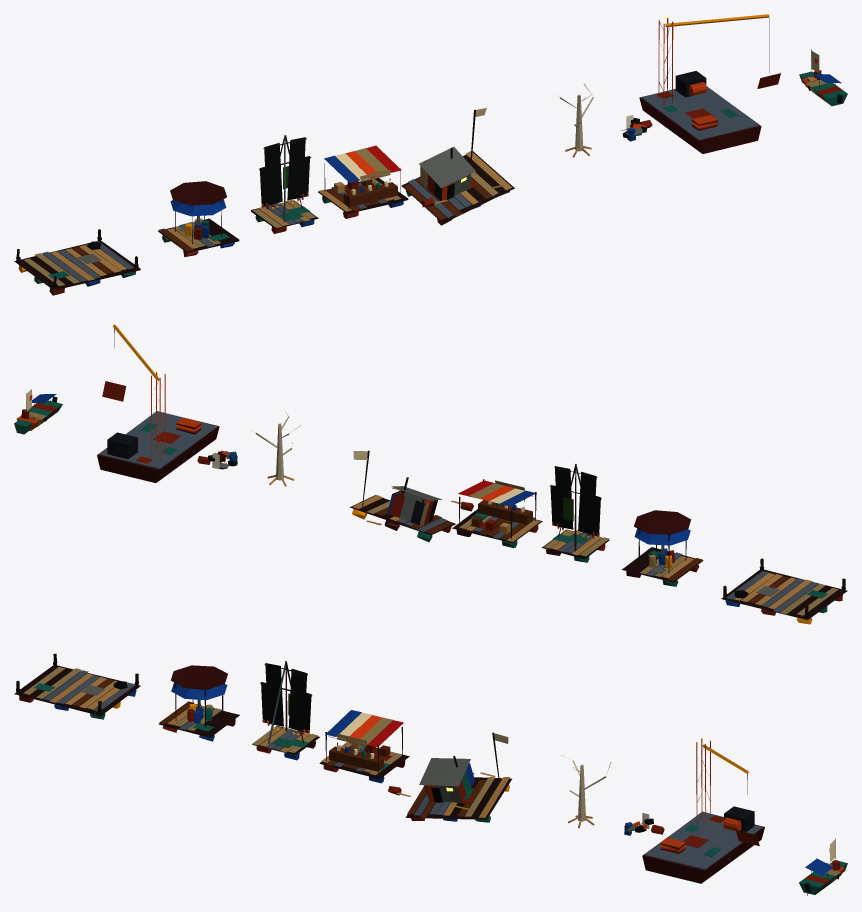
File: tb_outpost_kit.three-web-toon.lod50.glb
The picture shows the model from 3 angles, top to bottom: view 1: azimuth 30°, elevation 25°; view 2: azimuth 150°, elevation 25°; view 3: azimuth 330°, elevation 25°; orthographic projection.
Parts seen in each view (by area): view 1: salvage_barge_lod, sinking_platform_lod, net_tower_lod, market_stall_lod, pontoon_lod, rain_catcher_lod, scrap_boat_lod, dead_tree_lod; view 2: salvage_barge_lod, net_tower_lod, pontoon_lod, market_stall_lod, rain_catcher_lod, sinking_platform_lod, scrap_boat_lod, dead_tree_lod; view 3: salvage_barge_lod, sinking_platform_lod, net_tower_lod, market_stall_lod, pontoon_lod, rain_catcher_lod, scrap_boat_lod, dead_tree_lod, scrap_heap_lod.
Boxes of the visible parts, x1,y1,x2,y2 form: salvage_barge_lod: (639,14,780,153); sinking_platform_lod: (401,107,514,225); net_tower_lod: (251,135,318,233); market_stall_lod: (318,145,408,218); pontoon_lod: (14,229,140,295); rain_catcher_lod: (158,181,239,257); scrap_boat_lod: (799,49,847,106); dead_tree_lod: (557,84,593,157); salvage_barge_lod: (97,324,219,482); net_tower_lod: (541,464,609,562); pontoon_lod: (721,558,847,624); market_stall_lod: (452,479,542,548); rain_catcher_lod: (622,510,703,586); sinking_platform_lod: (350,450,473,542); scrap_boat_lod: (14,389,62,434); dead_tree_lod: (251,411,300,486); salvage_barge_lod: (642,736,764,883); sinking_platform_lod: (388,732,511,822); net_tower_lod: (252,661,319,760); market_stall_lod: (319,710,409,783); pontoon_lod: (14,653,140,719); rain_catcher_lod: (158,665,239,741); scrap_boat_lod: (799,838,847,895); dead_tree_lod: (561,755,610,828); scrap_heap_lod: (624,813,664,835).
Size of the model in its own units: 92.3 by 14.17 by 12.
